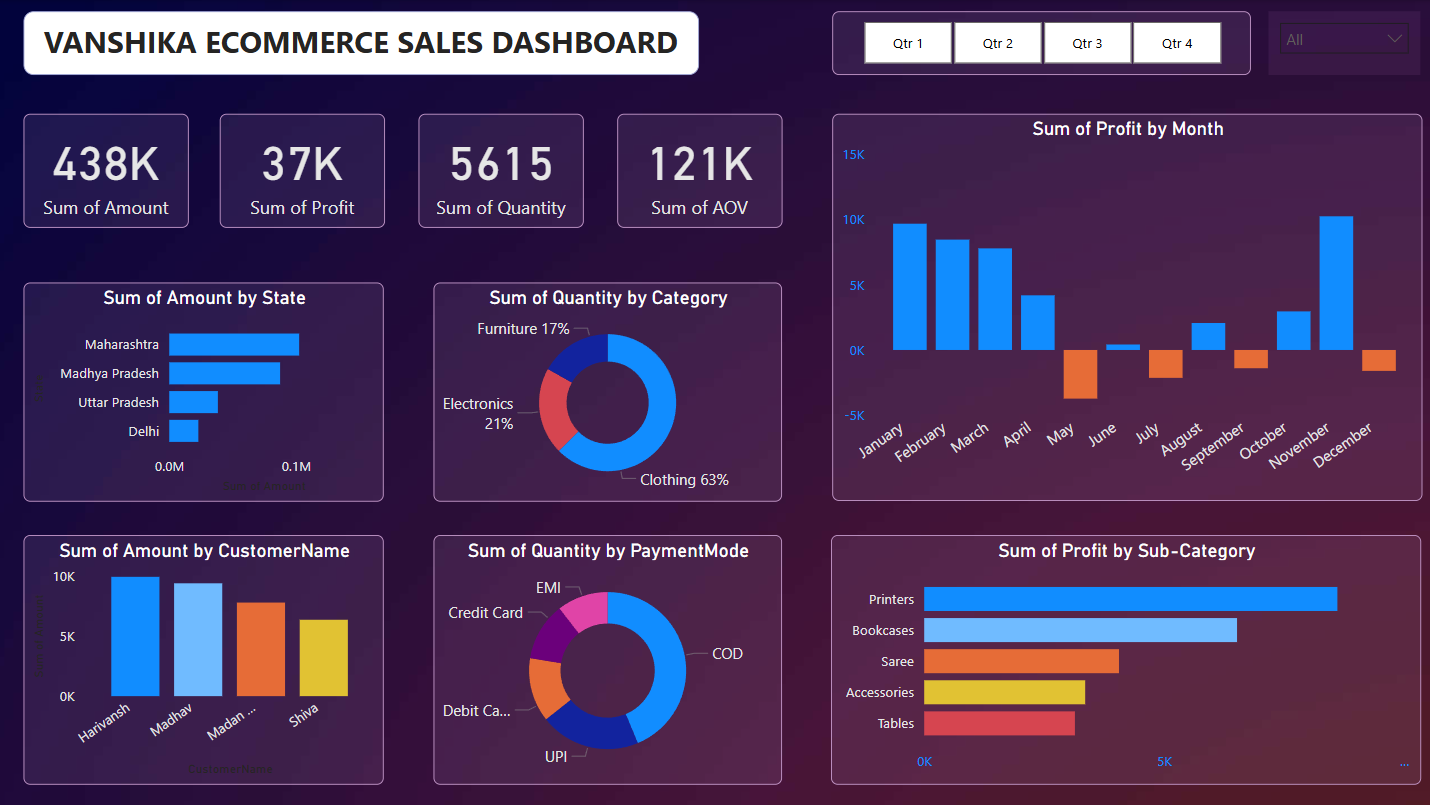

Layout of this report page (visuals, bound fields, positions):
{"tool":"powerbi","page":{"name":"Page 1","canvas":[1280,720],"ordinal":0},"visuals":[{"type":"textbox","box":[24.5,9.8,601.2,56.4],"z":0},{"type":"clusteredColumnChart","title":"Sum of Profit by Month","fields":{"Category":["Orders.Order Date.Variation.Date Hierarchy.Month"],"Y":["Details.Profit"]},"box":[745.1,101.5,525.6,344.4],"z":1000},{"type":"barChart","title":"Sum of Profit by Sub-Category","fields":{"Category":["Details.Sub-Category"],"Y":["Details.Profit"]},"box":[743.7,476.2,525.6,222.3],"z":2000},{"type":"donutChart","fields":{"Category":["Details.PaymentMode"],"Y":["Details.Quantity"]},"box":[389.7,476.2,310.1,222.3],"z":3000},{"type":"donutChart","fields":{"Category":["Details.Category"],"Y":["Details.Quantity"]},"box":[389.7,251.1,310.1,194.9],"z":4000},{"type":"clusteredBarChart","fields":{"Category":["Orders.State"],"Y":["Details.Amount"]},"box":[24.7,251.1,321.1,194.9],"z":5000},{"type":"clusteredColumnChart","fields":{"Category":["Orders.CustomerName"],"Y":["Details.Amount"]},"box":[24.7,476.2,321.1,222.3],"z":6000},{"type":"card","fields":{"Values":["Details.Amount"]},"box":[24.7,101.5,146.8,101.5],"z":7000},{"type":"card","fields":{"Values":["Details.Profit"]},"box":[199,101.5,146.8,101.5],"z":8000},{"type":"card","fields":{"Values":["Details.Quantity"]},"box":[376,101.5,146.8,101.5],"z":9000},{"type":"card","fields":{"Values":["Details.AOV"]},"box":[553,101.5,146.8,101.5],"z":10000},{"type":"slicer","fields":{"Values":["Orders.Order Date.Variation.Date Hierarchy.Quarter"]},"box":[744.8,9.8,373,56.4],"z":11000},{"type":"slicer","fields":{"Values":["Orders.State"]},"box":[1133.7,9.8,135,56.4],"z":12000}]}

Visuals, with their boxes in screenshot pixels (x1, y1, x2, y2), scaled from the page's 1280x720 canvas onto the 1430x805 screenshot:
textbox: {"left": 27, "top": 11, "right": 699, "bottom": 74}
"Sum of Profit by Month" clusteredColumnChart: {"left": 832, "top": 113, "right": 1420, "bottom": 499}
"Sum of Profit by Sub-Category" barChart: {"left": 831, "top": 532, "right": 1418, "bottom": 781}
donutChart - Details.PaymentMode x Details.Quantity: {"left": 435, "top": 532, "right": 782, "bottom": 781}
donutChart - Details.Category x Details.Quantity: {"left": 435, "top": 281, "right": 782, "bottom": 499}
clusteredBarChart - Orders.State x Details.Amount: {"left": 28, "top": 281, "right": 386, "bottom": 499}
clusteredColumnChart - Orders.CustomerName x Details.Amount: {"left": 28, "top": 532, "right": 386, "bottom": 781}
card - Details.Amount: {"left": 28, "top": 113, "right": 192, "bottom": 227}
card - Details.Profit: {"left": 222, "top": 113, "right": 386, "bottom": 227}
card - Details.Quantity: {"left": 420, "top": 113, "right": 584, "bottom": 227}
card - Details.AOV: {"left": 618, "top": 113, "right": 782, "bottom": 227}
slicer - Orders.Order Date.Variation.Date Hierarchy.Quarter: {"left": 832, "top": 11, "right": 1249, "bottom": 74}
slicer - Orders.State: {"left": 1267, "top": 11, "right": 1417, "bottom": 74}
